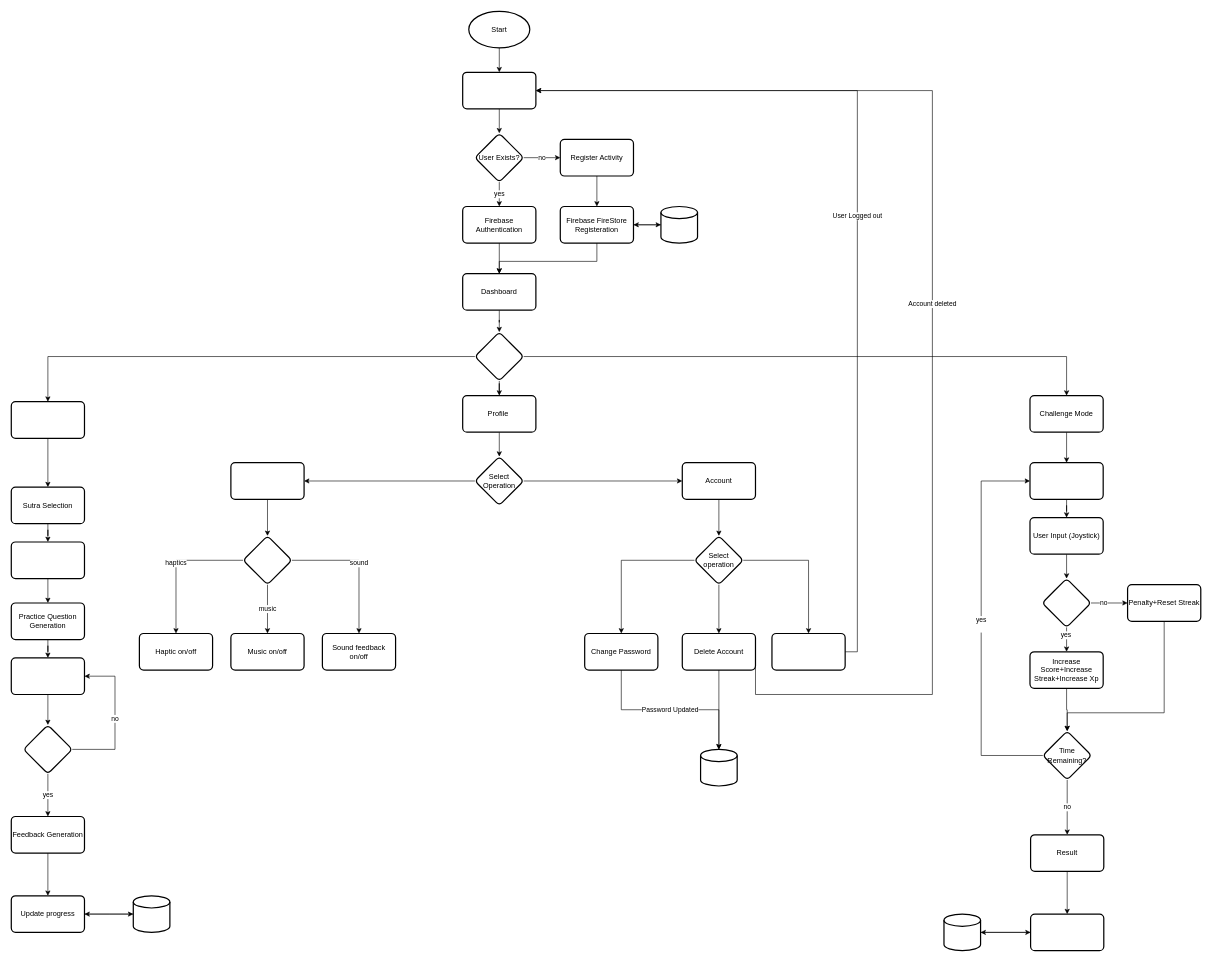
This 1211x961 diagram has some shape labels left out. The shapes that lost their labels are listed below. From the top down, each one's centre as x and y in pixels, then its label:
the point at 499,90: Login Activity
the point at 499,356: Select
the point at 47,420: Learning/Practice Mode
the point at 267,481: Preferences
the point at 1066,481: Generate Adaptive Question and Options
the point at 47,560: Sutra Demo
the point at 267,560: Select preference
the point at 1066,603: Check Answer?
the point at 808,651: Logout
the point at 47,676: User Solves Step by Step
the point at 48,749: Check?
the point at 1067,932: Update DataBase
